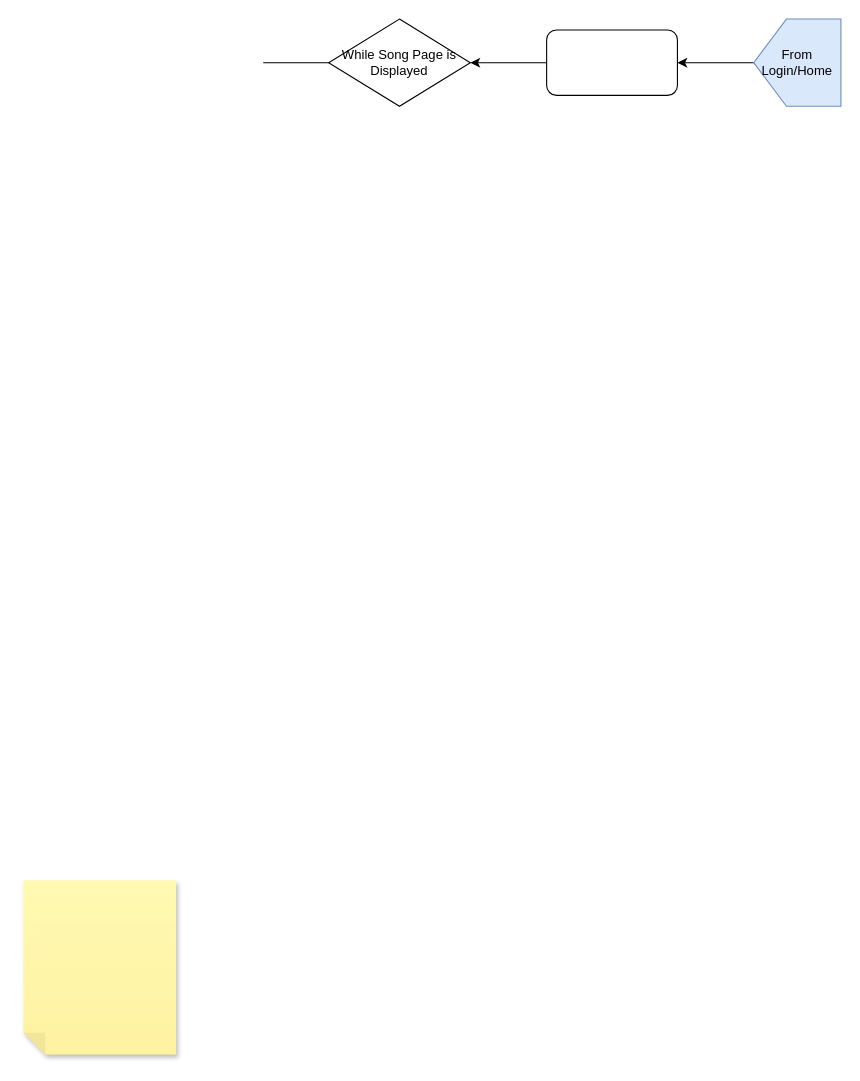
Some shapes in this 860 by 1081 pixel diagram are drawn without their labels. The centre of each missing label's shape, as x and y in pixels:
"Display Songs in main page" belongs at [611,62].
"Will we display artists, albums, or individual songs?" belongs at [100,968].
